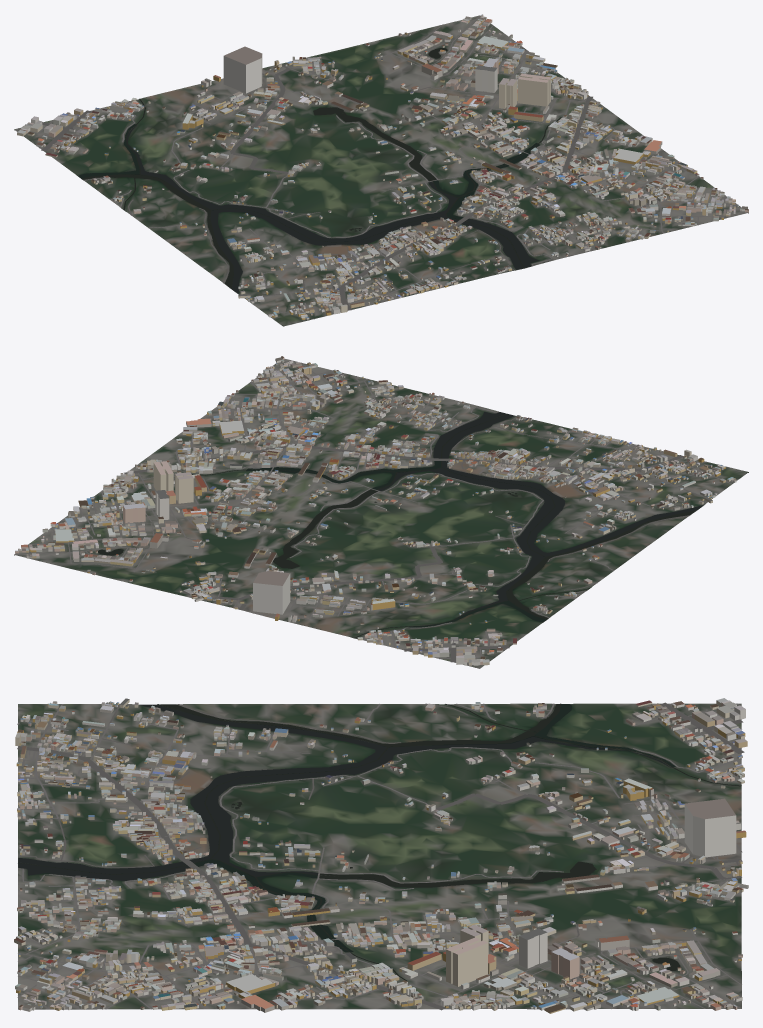
The picture shows the model from 3 angles, top to bottom: view 1: azimuth 30°, elevation 25°; view 2: azimuth 150°, elevation 25°; view 3: azimuth 270°, elevation 25°; orthographic projection. The views are drawn at different scales.
Visible parts, largest first — view 1: ground, buildings, roads, water; view 2: ground, buildings, water, roads; view 3: ground, buildings, water, roads.
Part boxes in pixels (x1=…): ground: x1=14, y1=15, x2=748, y2=326; buildings: x1=17, y1=14, x2=748, y2=319; roads: x1=15, y1=15, x2=738, y2=319; water: x1=78, y1=48, x2=561, y2=293; ground: x1=14, y1=358, x2=748, y2=668; buildings: x1=15, y1=356, x2=736, y2=665; water: x1=98, y1=411, x2=702, y2=638; roads: x1=14, y1=362, x2=732, y2=667; ground: x1=18, y1=703, x2=741, y2=1009; buildings: x1=14, y1=698, x2=748, y2=1013; water: x1=18, y1=703, x2=741, y2=981; roads: x1=17, y1=702, x2=744, y2=1010.
Bounding box in the file's own units: 1433 × 88.23 × 1422.
